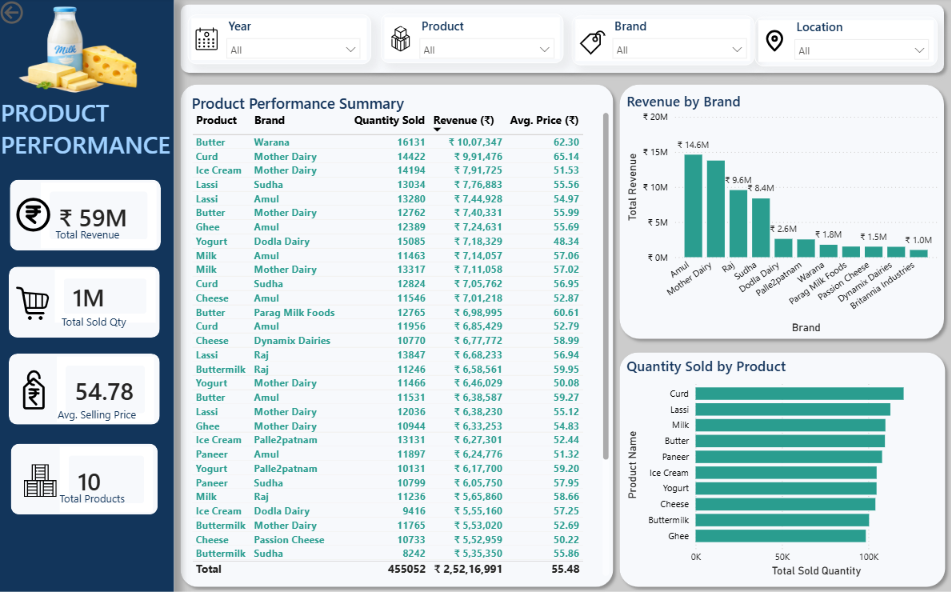

The page's visual inventory and layout, read from the dashboard file:
{"tool":"powerbi","page":{"name":"Product Performance","canvas":[1280,800],"ordinal":2},"visuals":[{"type":"shape","box":[17.4,244,188.9,85],"z":0},{"type":"shape","box":[16.1,360.8,202.4,95.2],"z":0,"group":"g6"},{"type":"shape","box":[16.1,477.2,202.4,95.2],"z":0,"group":"g7"},{"type":"shape","box":[18.8,597.9,202.4,95.2],"z":0,"group":"g8"},{"type":"shape","box":[1016.1,25.5,245,66.4],"z":1000,"group":"g9"},{"type":"cardVisual","fields":{"Data":["Measure Table.Total Sold Quantity"]},"box":[77.8,364.8,135.4,71],"z":1000,"group":"g6"},{"type":"cardVisual","fields":{"Data":["Measure Table.Average Selling Price"]},"box":[80.4,481.2,130,88.5],"z":1000,"group":"g7"},{"type":"cardVisual","fields":{"Data":["Measure Table.Total Products"]},"box":[85.8,601.9,128.7,88.5],"z":1000,"group":"g8"},{"type":"shape","box":[514.7,21.4,245.2,66.4],"z":2000,"group":"g3"},{"type":"shape","box":[237.3,107.2,597.9,691.7],"z":2000},{"type":"textbox","box":[81.8,419.8,113.9,36.2],"z":2000,"group":"g6"},{"type":"textbox","box":[80.5,656.9,113.9,36.2],"z":2000,"group":"g8"},{"type":"shape","box":[256,22.8,245.3,66.4],"z":3000,"group":"g1"},{"type":"shape","box":[770.8,24.1,244.5,66.4],"z":3000,"group":"g2"},{"type":"image","box":[25.5,387.6,45,45],"z":3000,"group":"g6"},{"type":"shape","box":[825.7,466.5,454.4,332.4],"z":3000},{"type":"textbox","box":[76.3,543.6,124.7,44.2],"z":3000,"group":"g7"},{"type":"image","box":[36.2,624.7,45,45],"z":3000,"group":"g8"},{"type":"shape","box":[825.7,107.2,453.1,359.3],"z":4000},{"type":"shape","box":[237.3,0,1041.6,109.9],"z":5000},{"type":"shape","box":[0,0,237.3,800.3],"z":6000},{"type":"tableEx","title":"Product Performance Summary","fields":{"Values":["Fact_Dairy.Product Name","Fact_Dairy.Brand","Measure Table.Total Sold Quantity","Measure Table.Total Revenue","Measure Table.Average Selling Price"]},"box":[256,127.3,569.7,652.8],"z":7000},{"type":"clusteredBarChart","title":"Quantity Sold by Product","fields":{"Category":["Fact_Dairy.Product Name"],"Y":["Measure Table.Total Sold Quantity"]},"box":[839.1,481.2,441,300.3],"z":8000},{"type":"clusteredColumnChart","title":"Revenue by Brand","fields":{"Y":["Measure Table.Total Revenue"],"Category":["Fact_Dairy.Brand"]},"box":[839.1,126,426.3,329.8],"z":9000},{"type":"textbox","box":[0,127.3,241.3,159.5],"z":10000},{"type":"group","id":"g1","title":"Group 3","box":[256,22.8,245.3,68.4],"z":12000},{"type":"group","id":"g2","title":"Group 12","box":[770.8,24.1,245.3,68.4],"z":13000},{"type":"group","id":"g3","title":"Group 13","box":[514.7,21.4,245.3,68.4],"z":14000},{"type":"slicer","fields":{"Values":["Dim_Date.Year"]},"box":[298.2,23.8,199.7,67],"z":14000,"group":"g1"},{"type":"slicer","fields":{"Values":["Fact_Dairy.Brand"]},"box":[814.8,24.1,200.2,66],"z":14000,"group":"g2"},{"type":"slicer","fields":{"Values":["Fact_Dairy.Product Name"]},"box":[556,23.8,200.8,66],"z":15000,"group":"g3"},{"type":"group","id":"g4","title":"Group 14","box":[1016.1,25.5,245.3,67],"z":15000},{"type":"image","box":[29.5,12.1,163.5,115.3],"z":16000},{"type":"slicer","fields":{"Values":["Fact_Dairy.Location"]},"box":[1059.3,25.5,200.7,66],"z":16000,"group":"g9"},{"type":"group","id":"g5","title":"Group 1","box":[17.4,244,202.4,95.2],"z":17000},{"type":"group","id":"g6","title":"Group 2","box":[16.1,360.8,202.4,95.2],"z":18000},{"type":"image","box":[781.1,27.7,34.1,65],"z":19000,"group":"g2"},{"type":"group","id":"g7","title":"Group 4","box":[16.1,477.2,202.4,111.3],"z":19000},{"type":"image","box":[263.5,22.8,34.3,65],"z":20000,"group":"g1"},{"type":"shape","box":[17.4,244,202.4,95.2],"z":20000,"group":"g5"},{"type":"group","id":"g8","title":"Group 5","box":[18.8,597.9,205.1,93.8],"z":20000},{"type":"actionButton","box":[0,0,100,40],"z":21000},{"type":"image","box":[524.1,22.6,34.2,65],"z":21000,"group":"g3"},{"type":"cardVisual","fields":{"Data":["Measure Table.Total Revenue"]},"box":[59,248,155.5,88.5],"z":21000,"group":"g5"},{"type":"image","box":[24.1,265.4,49.6,50.9],"z":22000,"group":"g5"},{"type":"image","box":[12.1,493.3,75,65.2],"z":22000},{"type":"image","box":[1025.5,25.5,34.2,65.1],"z":23000,"group":"g9"},{"type":"actionButton","box":[120.6,721.2,60,60],"z":23000},{"type":"actionButton","box":[44.2,721.2,60,60],"z":24000},{"type":"group","id":"g9","title":"Group 15","box":[1016.1,25.5,245,66.4],"z":24001,"group":"g4"},{"type":"textbox","box":[73.7,303,113.9,36.2],"z":32000,"group":"g5"}]}

Visuals, with their boxes in screenshot pixels (x1, y1, x2, y2), scaled from the page's 1280x800 canvas onto the 951x592 screenshot:
shape: box=[13, 181, 153, 243]
shape: box=[12, 267, 162, 337]
shape: box=[12, 353, 162, 424]
shape: box=[14, 442, 164, 513]
shape: box=[755, 19, 937, 68]
cardVisual - Measure Table.Total Sold Quantity: box=[58, 270, 158, 322]
cardVisual - Measure Table.Average Selling Price: box=[60, 356, 156, 422]
cardVisual - Measure Table.Total Products: box=[64, 445, 159, 511]
shape: box=[382, 16, 565, 65]
shape: box=[176, 79, 621, 591]
textbox: box=[61, 311, 145, 337]
textbox: box=[60, 486, 144, 513]
shape: box=[190, 17, 372, 66]
shape: box=[573, 18, 754, 67]
image: box=[19, 287, 52, 320]
shape: box=[613, 345, 950, 591]
textbox: box=[57, 402, 149, 435]
image: box=[27, 462, 60, 496]
shape: box=[613, 79, 950, 345]
shape: box=[176, 0, 950, 81]
shape: box=[0, 0, 176, 591]
"Product Performance Summary" tableEx: box=[190, 94, 613, 577]
"Quantity Sold by Product" clusteredBarChart: box=[623, 356, 950, 578]
"Revenue by Brand" clusteredColumnChart: box=[623, 93, 940, 337]
textbox: box=[0, 94, 179, 212]
"Group 3" group: box=[190, 17, 372, 67]
"Group 12" group: box=[573, 18, 755, 68]
"Group 13" group: box=[382, 16, 565, 66]
slicer - Dim_Date.Year: box=[222, 18, 370, 67]
slicer - Fact_Dairy.Brand: box=[605, 18, 754, 67]
slicer - Fact_Dairy.Product Name: box=[413, 18, 562, 66]
"Group 14" group: box=[755, 19, 937, 68]
image: box=[22, 9, 143, 94]
slicer - Fact_Dairy.Location: box=[787, 19, 936, 68]
"Group 1" group: box=[13, 181, 163, 251]
"Group 2" group: box=[12, 267, 162, 337]
image: box=[580, 20, 606, 69]
"Group 4" group: box=[12, 353, 162, 435]
image: box=[196, 17, 221, 65]
shape: box=[13, 181, 163, 251]
"Group 5" group: box=[14, 442, 166, 512]
actionButton: box=[0, 0, 74, 30]
image: box=[389, 17, 415, 65]
cardVisual - Measure Table.Total Revenue: box=[44, 184, 159, 249]
image: box=[18, 196, 55, 234]
image: box=[9, 365, 65, 413]
image: box=[762, 19, 787, 67]
actionButton: box=[90, 534, 134, 578]
actionButton: box=[33, 534, 77, 578]
"Group 15" group: box=[755, 19, 937, 68]
textbox: box=[55, 224, 139, 251]
